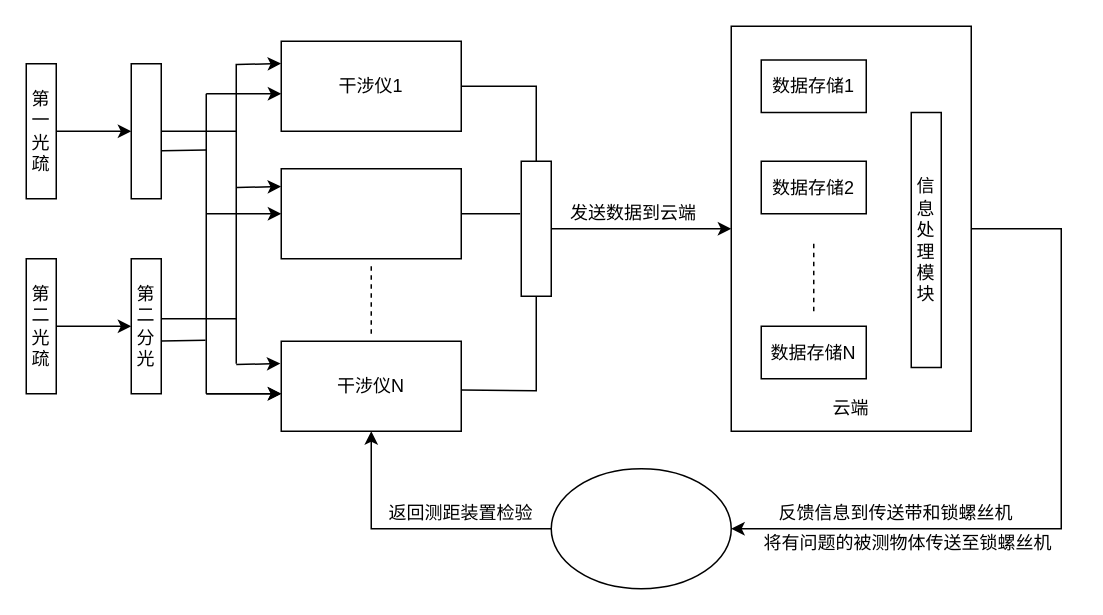
Image size: 1103x615. Some labels were removed from this diagram. Here are the shapes that lost their labels. From the top down, the box of each, then its label:
(130, 62, 161, 199): 第一分光
(280, 167, 461, 259): 干涉仪2
(520, 160, 551, 296): 信息采集模块
(550, 467, 731, 589): 自动锁螺丝机
